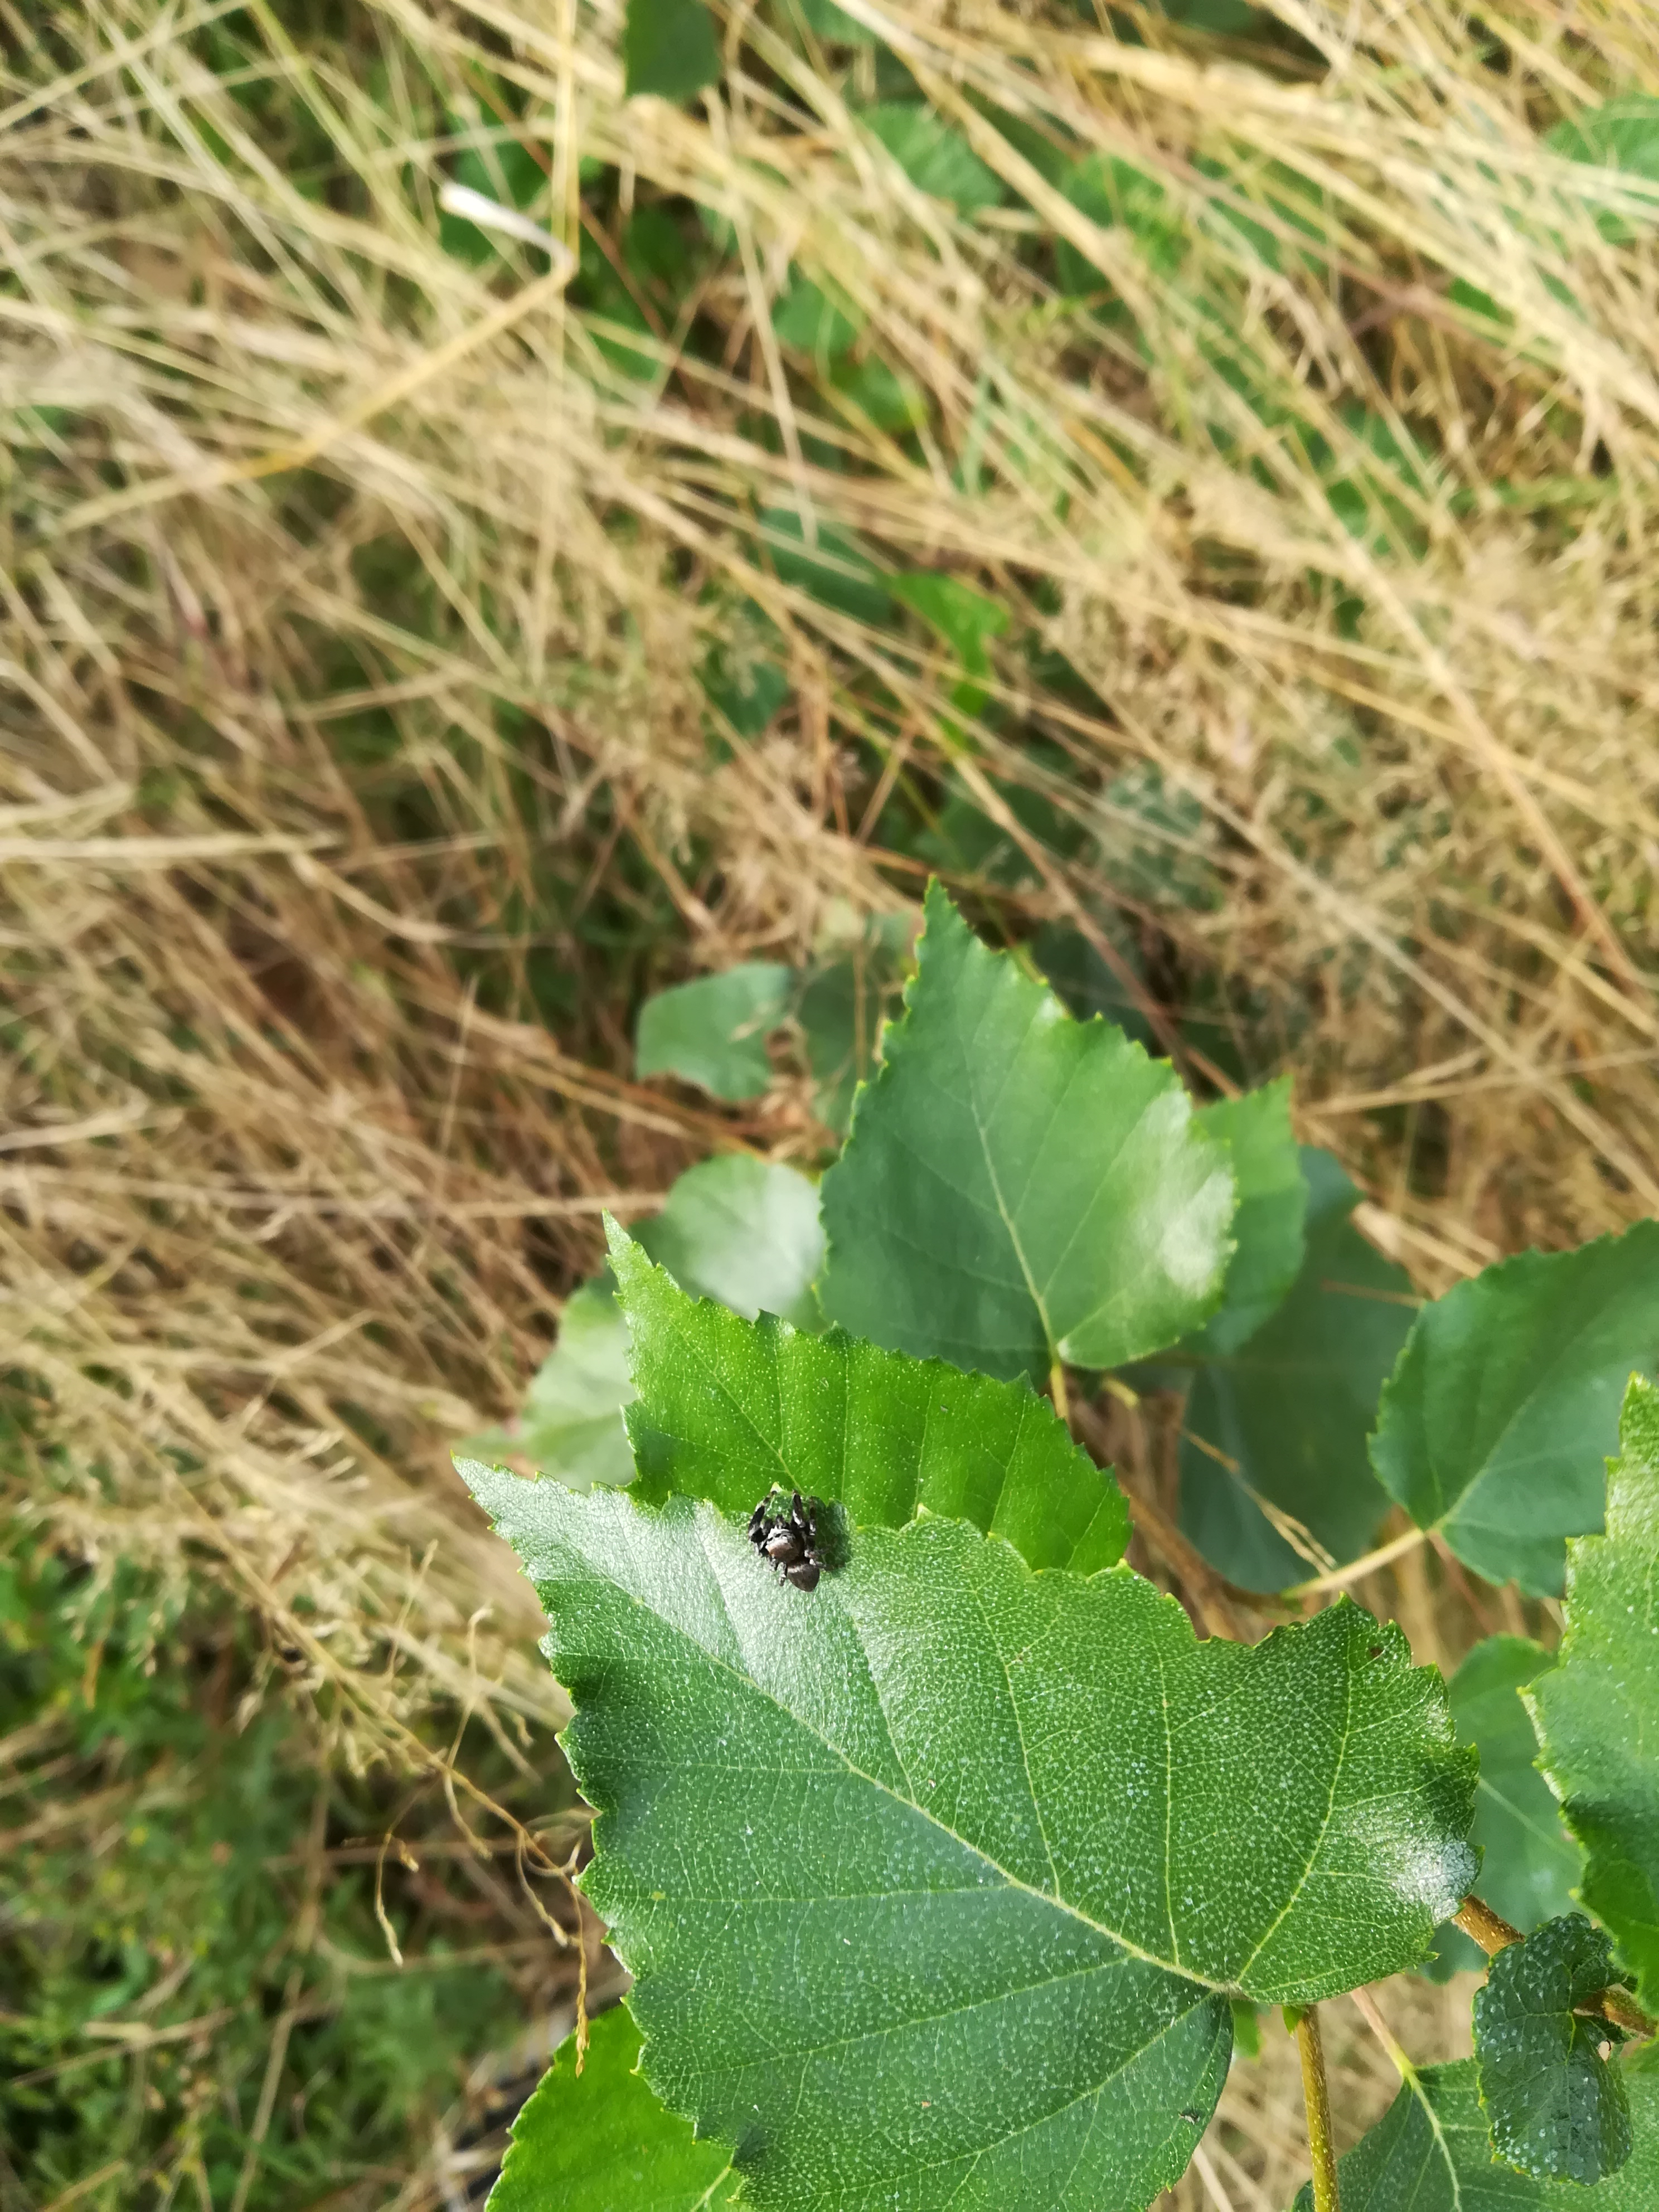spider: (720, 1467, 861, 1620)
